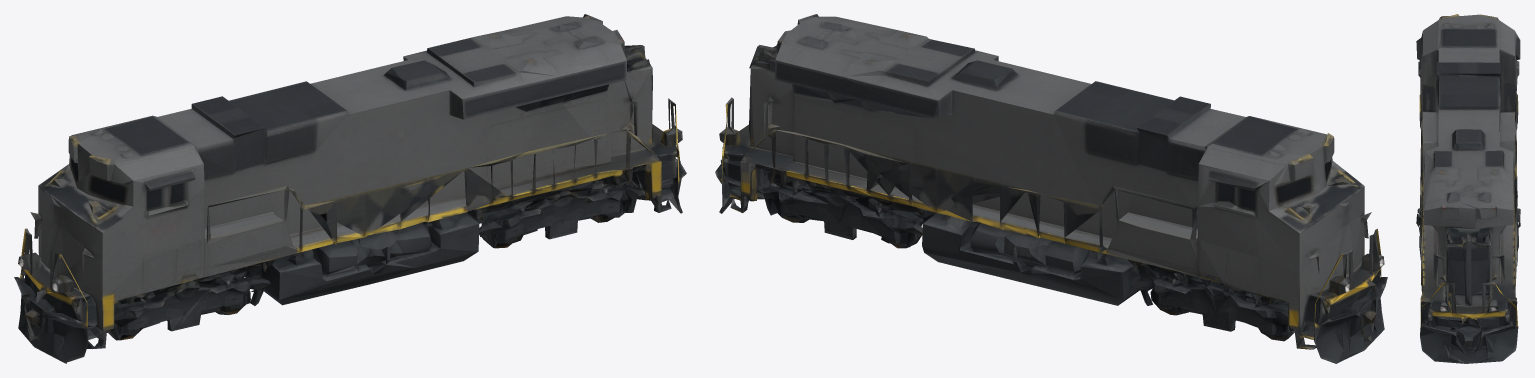
Rendered from Meshy_AI_Desert_Freight_Titan_1022001010_texture.fbx.
3 renders of one model, left to right at view 1: azimuth 30°, elevation 25°; view 2: azimuth 150°, elevation 25°; view 3: azimuth 270°, elevation 25°, orthographic. The views are drawn at different scales.
Visible parts, largest first — view 1: output_unwrapped; view 2: output_unwrapped; view 3: output_unwrapped.
Part boxes in pixels (box(x1,y1,x2,y2)): output_unwrapped: box(14, 14, 686, 363); output_unwrapped: box(715, 14, 1387, 363); output_unwrapped: box(1416, 14, 1520, 363).
Size of the model in its own units: 189 by 53.11 by 35.62.
Materials: 1 (1 with a texture image).
